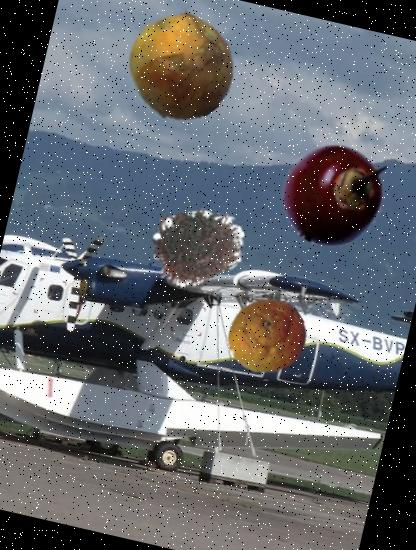Mandarine: (220, 289, 314, 384)
Onion: (116, 1, 247, 132)
Rambutan: (143, 191, 256, 304)
Tamarillo: (270, 132, 396, 258)
